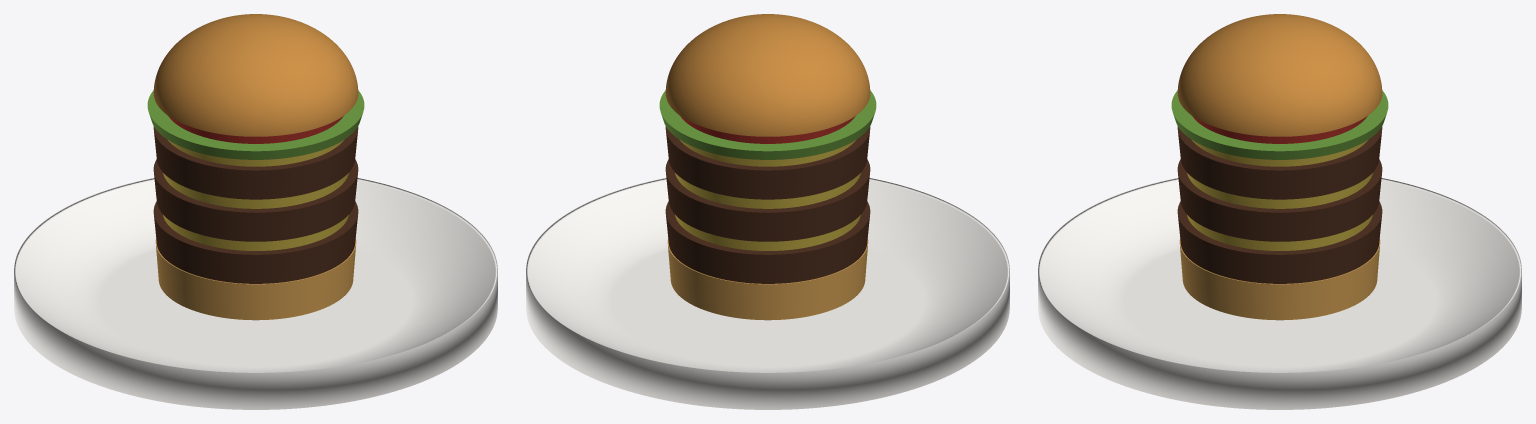
File: burger-trinca-hero.glb
3 renders of one model, left to right at view 1: azimuth 30°, elevation 25°; view 2: azimuth 150°, elevation 25°; view 3: azimuth 270°, elevation 25°, orthographic.
Size of the model in its own units: 0.26 by 0.1666 by 0.26.
